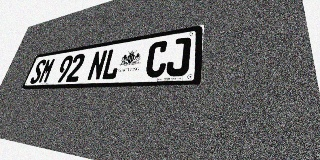2: (66, 53, 86, 82)
9: (55, 55, 75, 83)
C: (144, 40, 169, 78)
J: (165, 37, 191, 77)
L: (100, 47, 123, 80)
M: (38, 58, 56, 84)
N: (86, 50, 108, 81)
S: (29, 59, 47, 84)
